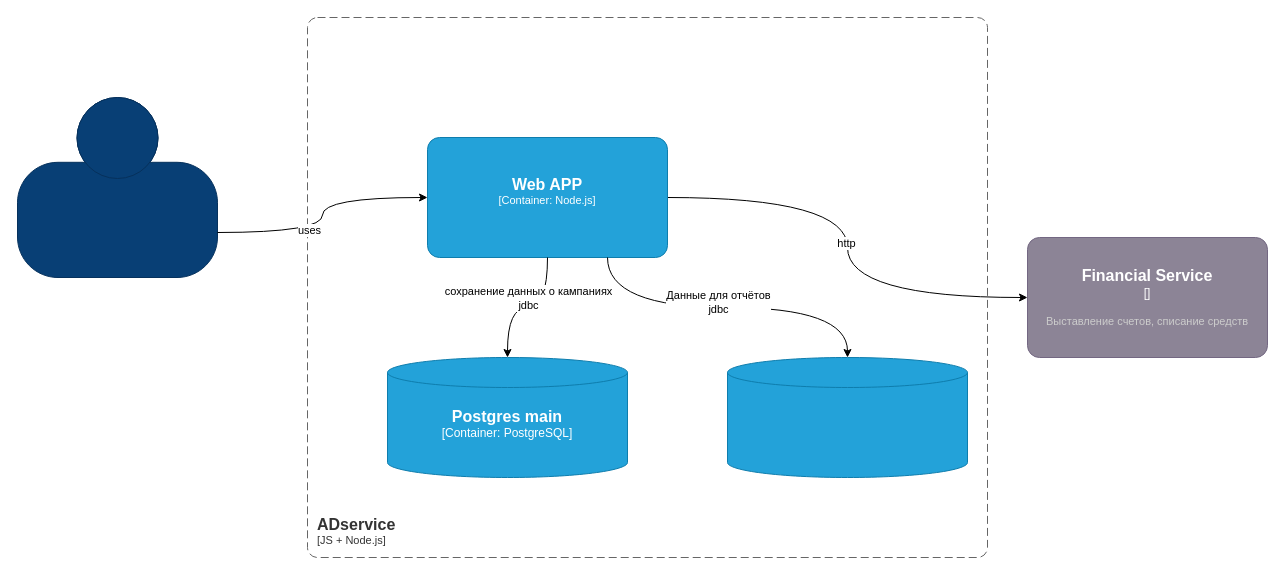
The diagram is 1285 pixels wide and 575 high, and some of its shapes have lost their labels. The shapes that lost their labels are listed below. From the top down, each one's centre as x and y in pixels, then its label:
the point at 117,187: Рекламодатель [] Управляет кампаниями и бюджетами
the point at 847,417: Postgres replica [Container: PostgreSQL]
